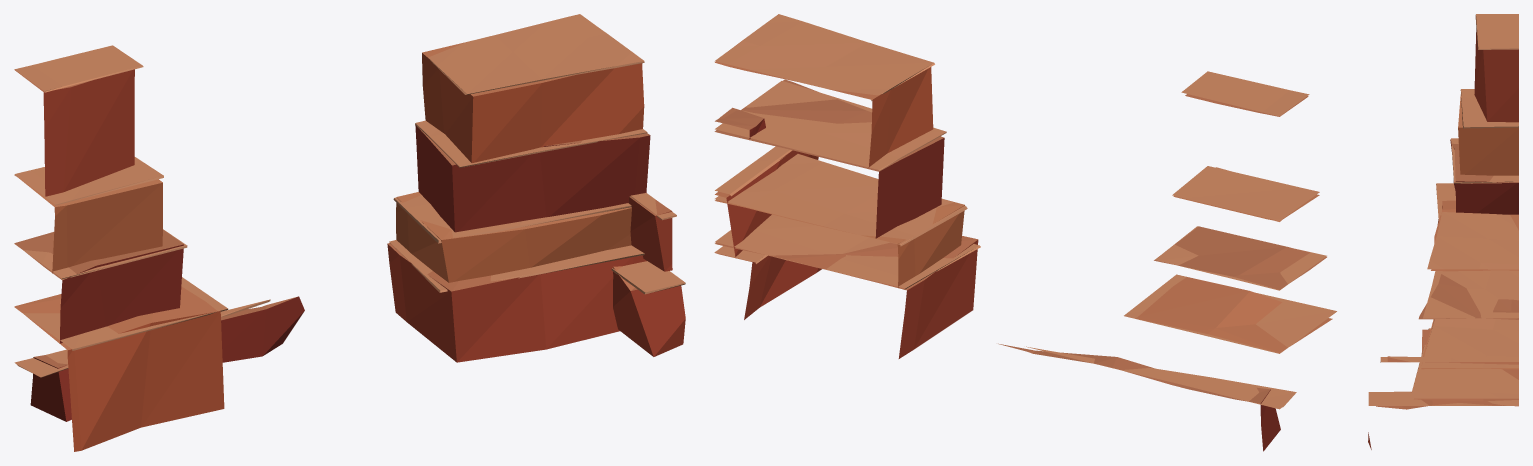
3 renders of one model, left to right at view 1: azimuth 30°, elevation 25°; view 2: azimuth 150°, elevation 25°; view 3: azimuth 270°, elevation 25°, orthographic. The views are drawn at different scales.
Visible parts, largest first — view 1: scene.3.6; view 2: scene.3.6; view 3: scene.3.6.
Part boxes in pixels (box(x1,y1,x2,y2)): scene.3.6: box(14, 14, 685, 451); scene.3.6: box(714, 14, 1336, 451); scene.3.6: box(1368, 14, 1518, 449).
Bounding box in the file's own units: 62.5 × 36.08 × 20.24.
